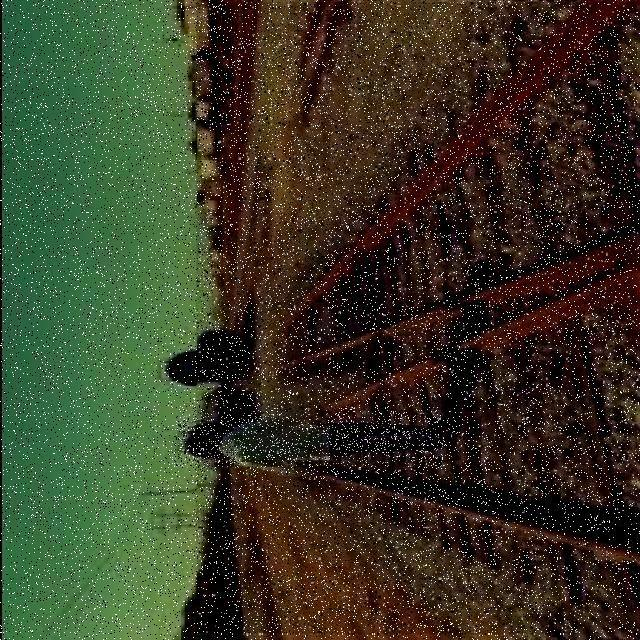rail: (198, 4, 638, 635)
